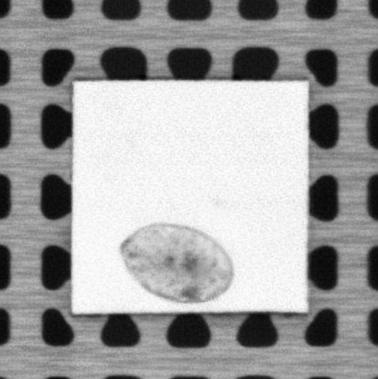DIE_INK: (118, 220, 236, 305)
